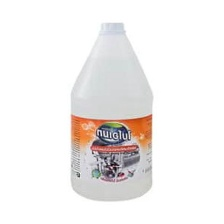cleaning_solution: (67, 18, 155, 203)
